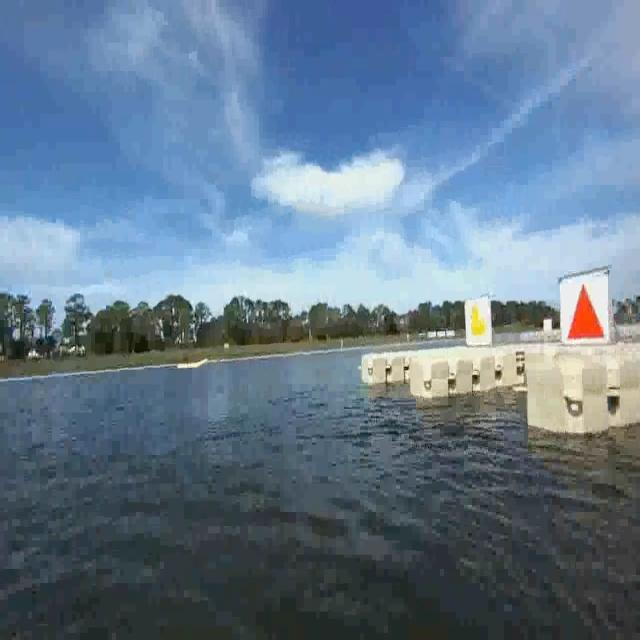red-dot: (562, 280, 611, 340)
yellow-duck: (463, 299, 491, 345)
